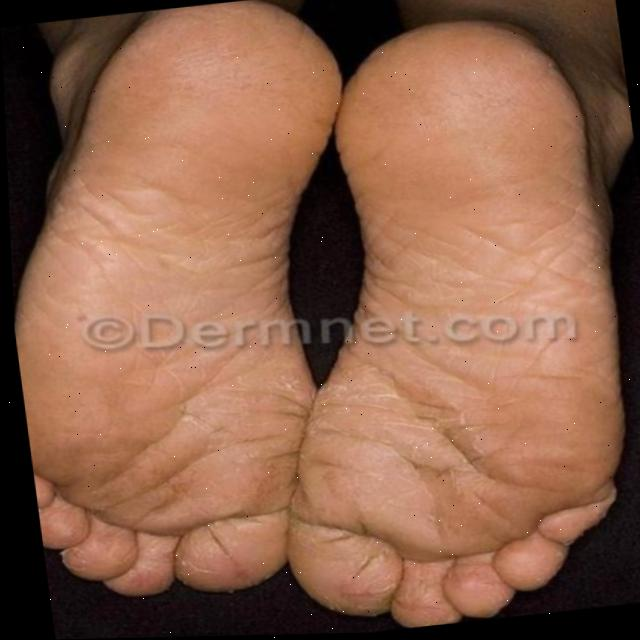Eczema: (207, 121, 580, 563), (19, 348, 248, 632)
